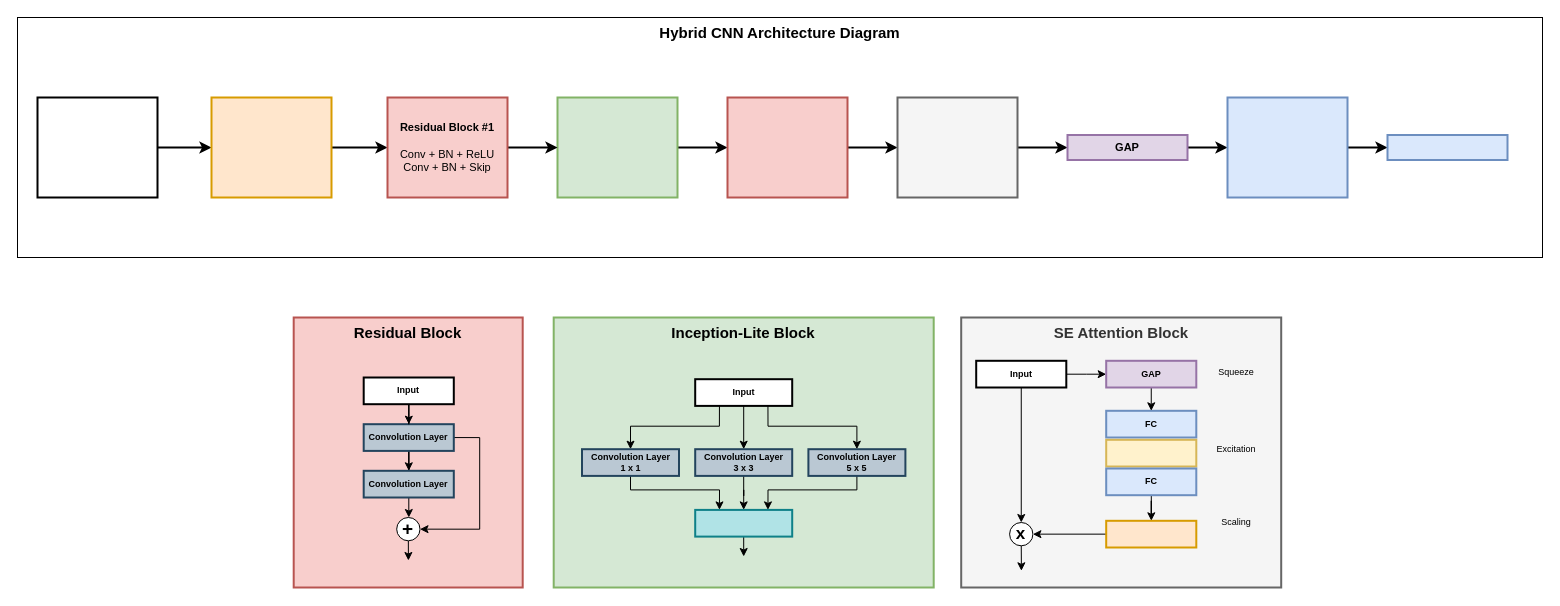
The diagram is 1560 pixels wide and 606 high, and some of its shapes have lost their labels. Here are the shapes that lost their labels. From the top down, the centre of each, then its label:
At pixel 97 147: "Input 32 x 32 x 3".
At pixel 271 147: "Stem Block Conv + BN + ReLU".
At pixel 617 147: "Inception-Lite Block 1 x 1 Branch 3 x 3 Branch 5 x 5 Branch Concatenate".
At pixel 787 147: "Residual Block #2 Conv + BN + ReLU Conv + BN + Skip".
At pixel 957 147: "SE Attention Block GAP FC > ReLU > FC Channel Reweighting".
At pixel 1287 147: "Classifier FC ReLU Dropout FC".
At pixel 1447 147: "Output ( 10 )".
At pixel 1151 452: "ReLU".
At pixel 743 522: "Concatenate".
At pixel 1151 533: "Sigmoid".
